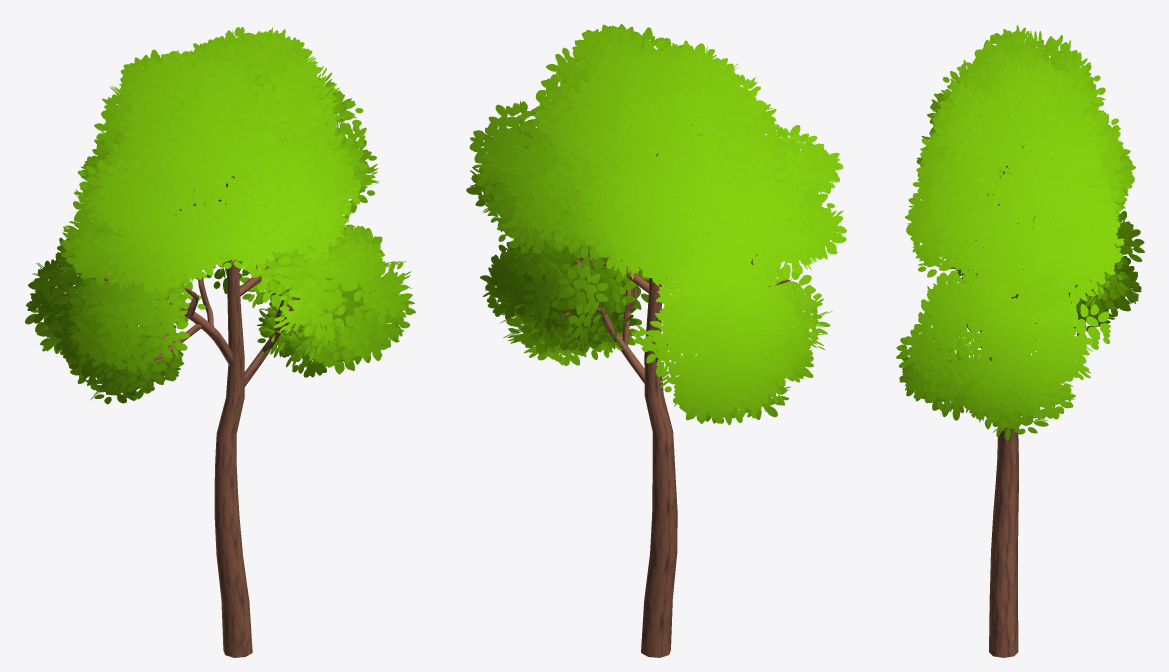
The model's file is etFGNvsiFv-variant.glb.
The picture shows the model from 3 angles, left to right: view 1: azimuth 30°, elevation 25°; view 2: azimuth 150°, elevation 25°; view 3: azimuth 270°, elevation 25°; orthographic projection. The views are drawn at different scales.
Visible parts, largest first — view 1: NormalTree_1; view 2: NormalTree_1; view 3: NormalTree_1.
Boxes of the visible parts, x1,y1,x2,y2 form: NormalTree_1: [25, 27, 415, 657]; NormalTree_1: [466, 24, 846, 657]; NormalTree_1: [896, 25, 1144, 657].
Size of the model in its own units: 4.05 by 6.87 by 2.74.
Materials: 2 (2 with a texture image).
